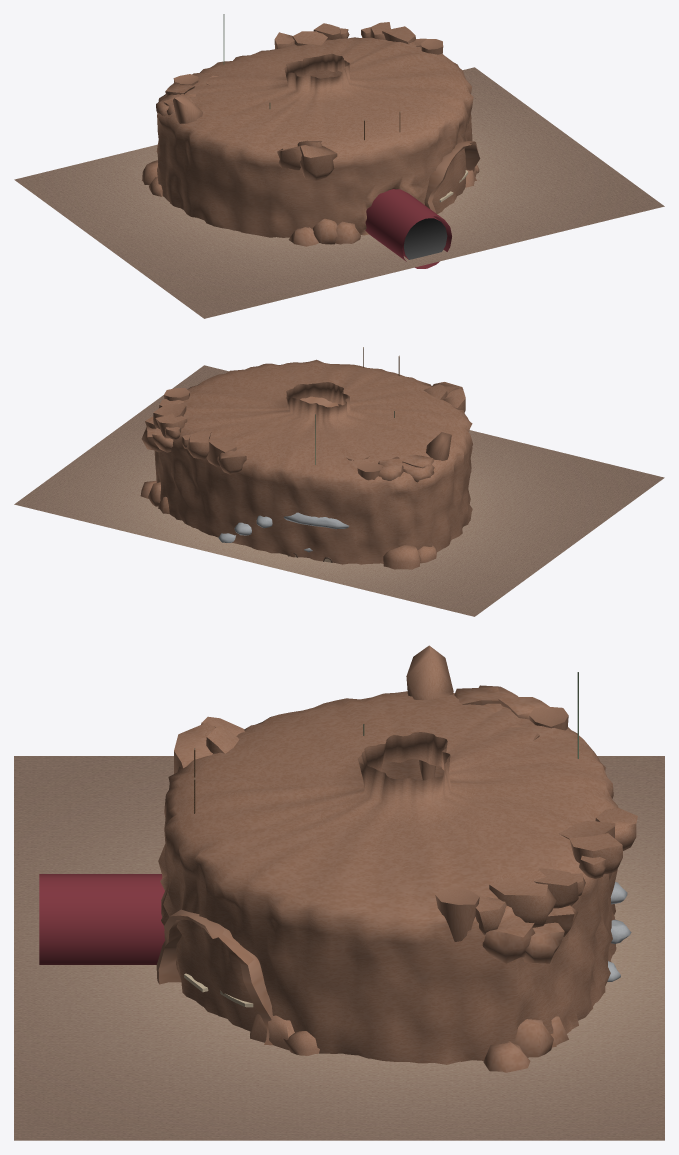
Rendered from lobby_0606.fbx.
The picture shows the model from 3 angles, top to bottom: view 1: azimuth 30°, elevation 25°; view 2: azimuth 150°, elevation 25°; view 3: azimuth 270°, elevation 25°; orthographic projection. The views are drawn at different scales.
Visible parts, largest first — view 1: Wall, Floor, GroundPipe, Stone.015, Stone.013, Stone.012, Stone.006, Stone.007, Stone.005, Stalactite.002, Stone.004; view 2: Wall, Floor, Stone.006, Stone.005, Stone.007, Stone.004, Stone.015, Stone.001, StoneBed.001, Stalactite.002, Stone.008; view 3: Wall, Floor, GroundPipe, Stone.007, Stone.012, Stone.006, Stone.001, Stone.008, Stalactite.002, Stone.015, Stone.005, Stone.011 (+2 smaller).
Part boxes in pixels (left/top/right/bottom): Wall: left=156, top=37, right=473, bottom=237; Floor: left=14, top=67, right=664, bottom=318; GroundPipe: left=365, top=189, right=451, bottom=268; Stone.015: left=277, top=140, right=337, bottom=180; Stone.013: left=288, top=218, right=360, bottom=246; Stone.012: left=424, top=141, right=480, bottom=212; Stone.006: left=274, top=23, right=349, bottom=48; Stone.007: left=361, top=22, right=426, bottom=47; Stone.005: left=156, top=82, right=195, bottom=116; Stalactite.002: left=173, top=95, right=202, bottom=123; Stone.004: left=142, top=160, right=162, bottom=196; Wall: left=154, top=359, right=472, bottom=564; Floor: left=14, top=365, right=664, bottom=616; Stone.006: left=181, top=431, right=246, bottom=474; Stone.005: left=378, top=454, right=434, bottom=482; Stone.007: left=153, top=399, right=187, bottom=439; Stone.004: left=383, top=545, right=436, bottom=569; Stone.015: left=424, top=382, right=465, bottom=412; Stone.001: left=141, top=416, right=173, bottom=452; StoneBed.001: left=283, top=512, right=349, bottom=529; Stalactite.002: left=426, top=432, right=451, bottom=460; Stone.008: left=140, top=480, right=169, bottom=513; Wall: left=158, top=691, right=618, bottom=1064; Floor: left=14, top=756, right=664, bottom=1140; GroundPipe: left=39, top=874, right=165, bottom=964; Stone.007: left=473, top=868, right=585, bottom=935; Stone.012: left=156, top=909, right=272, bottom=1045; Stone.006: left=559, top=808, right=637, bottom=878; Stone.001: left=482, top=905, right=577, bottom=963; Stone.008: left=483, top=1016, right=568, bottom=1072; Stalactite.002: left=406, top=645, right=453, bottom=780; Stone.015: left=174, top=716, right=244, bottom=773; Stone.005: left=454, top=685, right=549, bottom=719; Stone.011: left=250, top=1014, right=319, bottom=1055.
Size of the model in its own units: 18.46 by 6.07 by 13.2.
